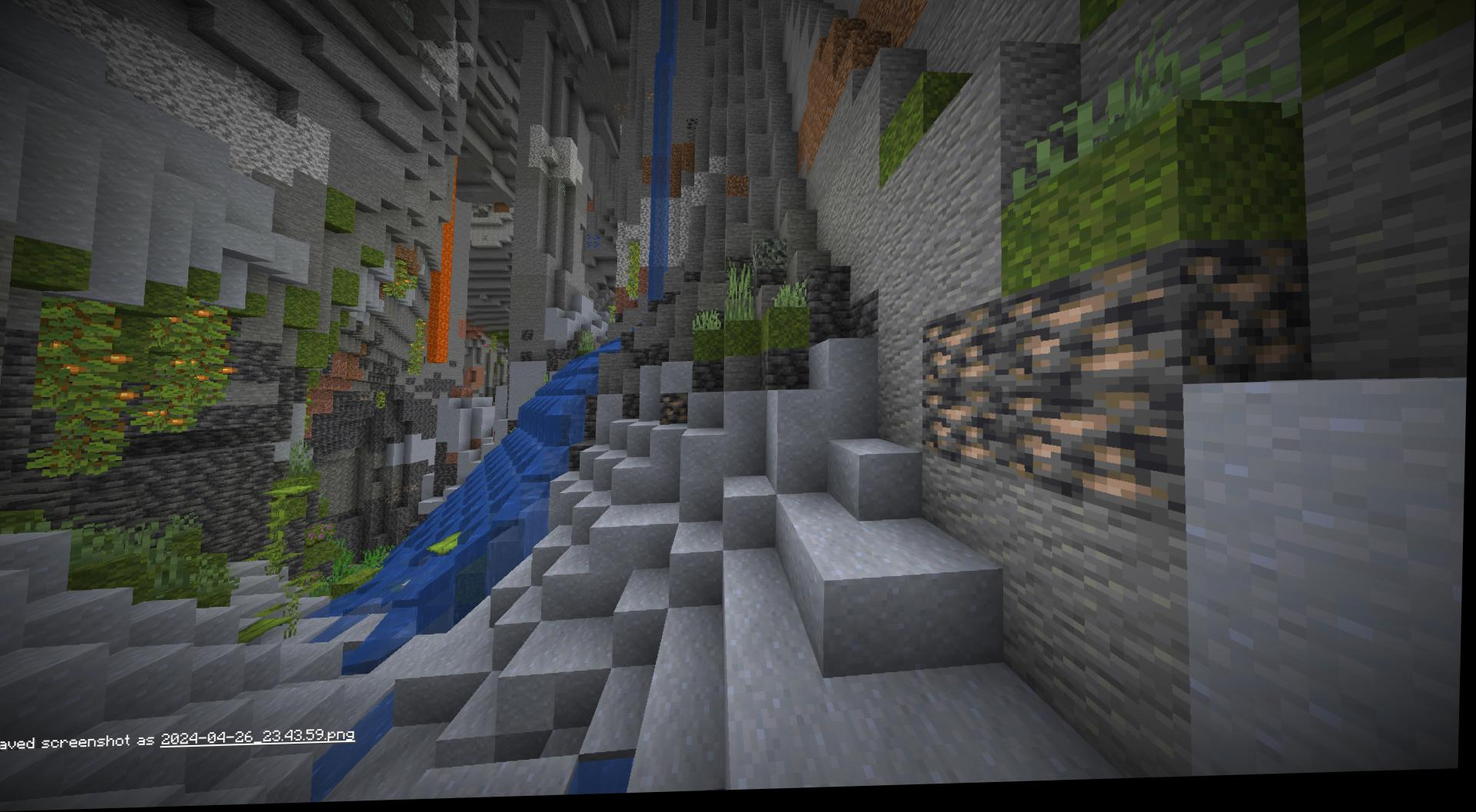iron ore: (998, 390, 1171, 522), (1000, 287, 1170, 396), (1187, 250, 1305, 383), (922, 389, 1002, 472), (921, 322, 1000, 389), (660, 393, 694, 428)
